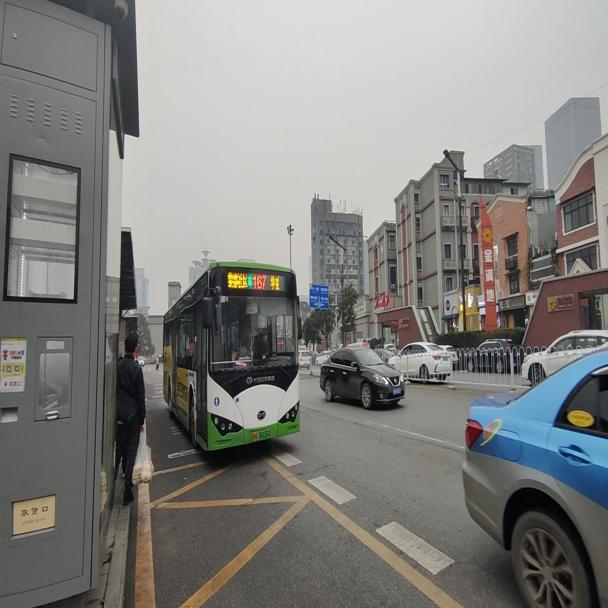bus: (161, 258, 304, 454)
screen: (252, 274, 266, 289)
